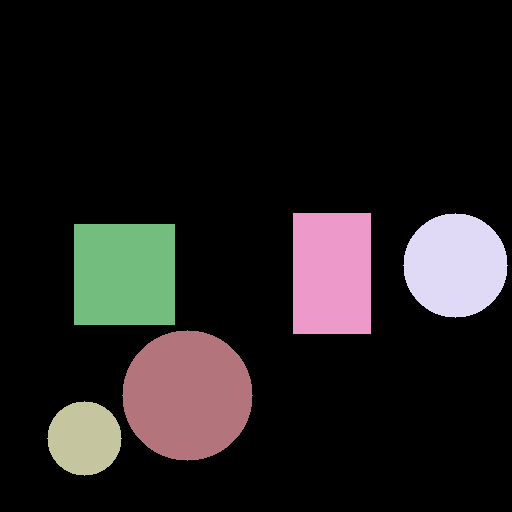circle: (122, 330, 252, 460), (403, 213, 507, 317), (47, 401, 121, 475)
rectangle: (293, 213, 370, 333)
square: (74, 224, 174, 324)
